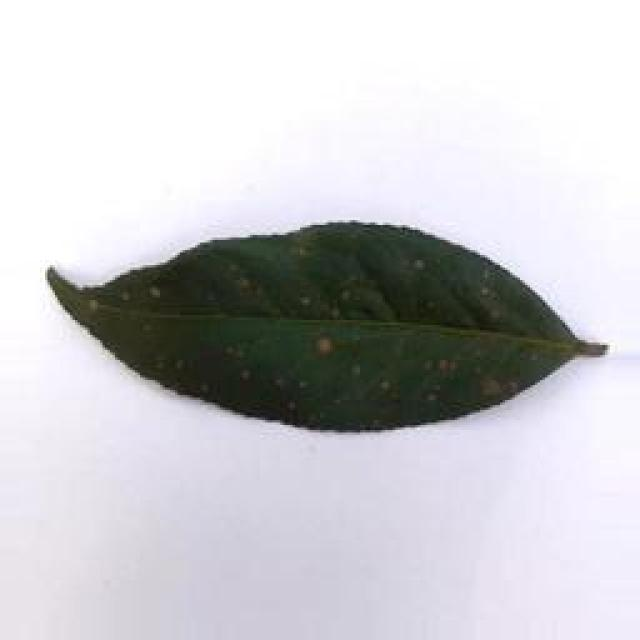Algal Leaf Spot: (32, 210, 640, 438)
